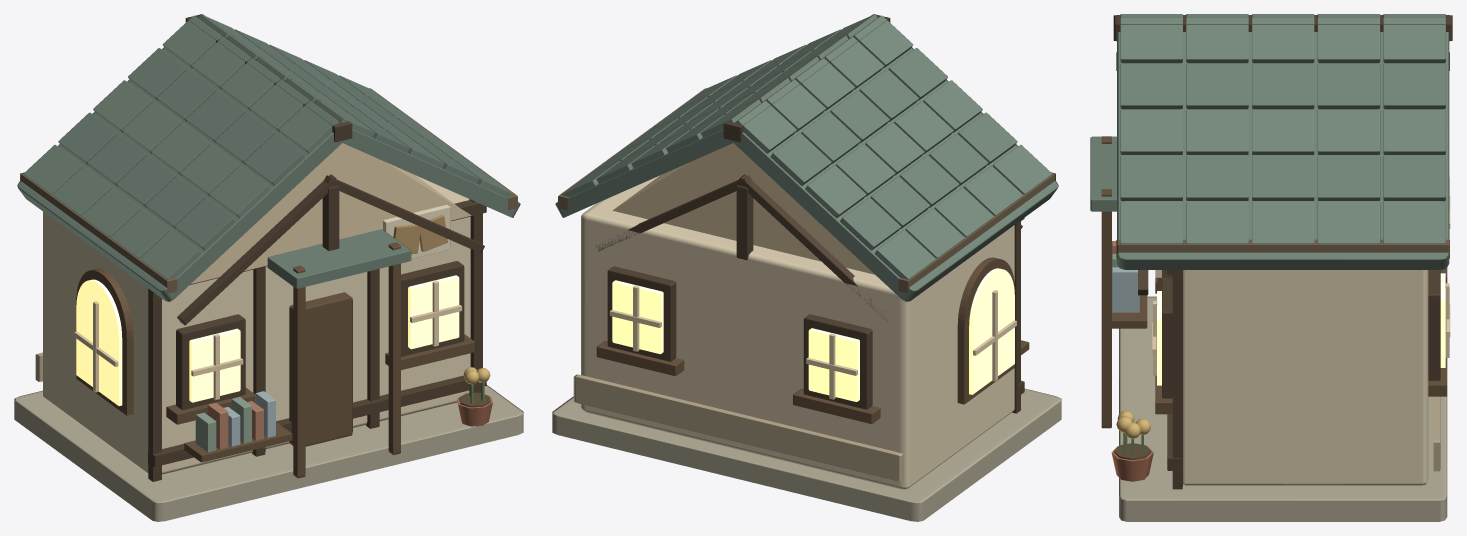
The model's file is library-0.glb.
3 views of the same model, side by side, from view 1: azimuth 30°, elevation 25°; view 2: azimuth 150°, elevation 25°; view 3: azimuth 270°, elevation 25° (orthographic). The views are drawn at different scales.
Parts seen in each view (by area): view 1: library-0-0; view 2: library-0-0; view 3: library-0-0.
Boxes of the visible parts, box(x1,y1,x2,y2) form: library-0-0: box(14, 14, 523, 521); library-0-0: box(552, 14, 1061, 521); library-0-0: box(1090, 14, 1452, 521).
Size of the model in its own units: 2.8 by 2.58 by 2.1.
